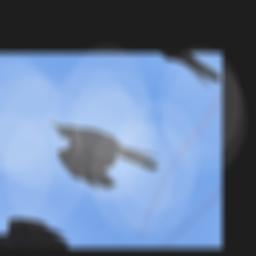Crow: (29, 104, 165, 208)
